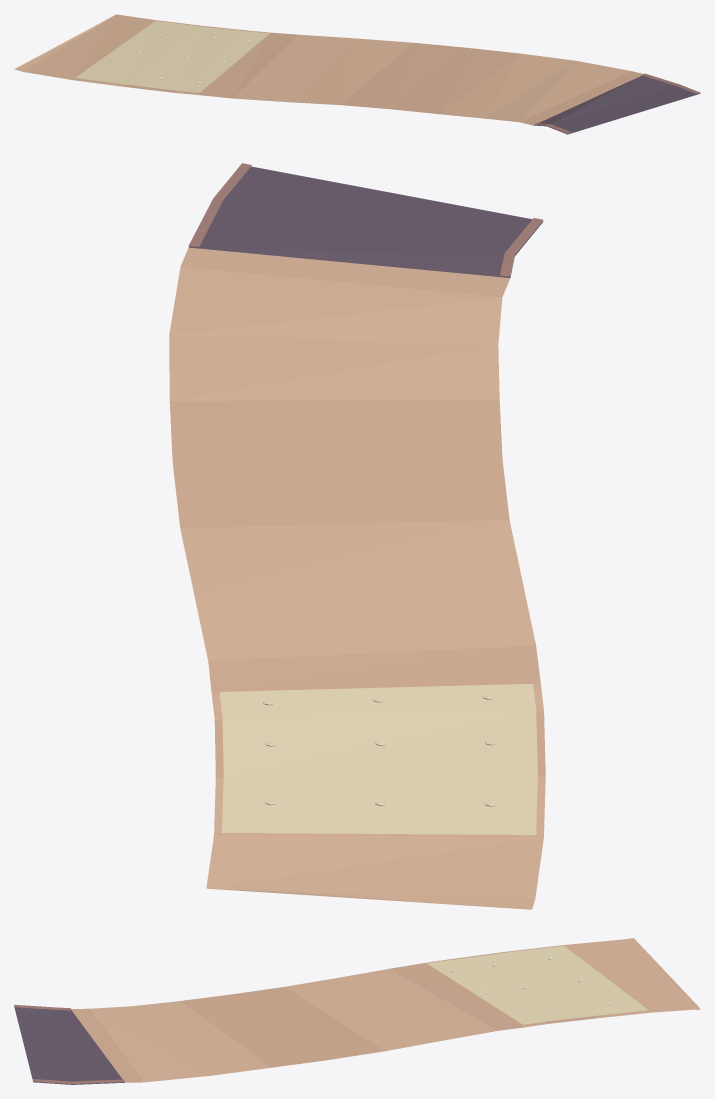
Rendered from tramo_pista_2.glb.
3 renders of one model, top to bottom at view 1: azimuth 30°, elevation 25°; view 2: azimuth 150°, elevation 25°; view 3: azimuth 270°, elevation 25°, orthographic. The views are drawn at different scales.
Visible parts, largest first — view 1: tramo_pista_2; view 2: tramo_pista_2; view 3: tramo_pista_2.
Part boxes in pixels (x1,y1,x2,y2): tramo_pista_2: (14,14,700,134); tramo_pista_2: (169,163,545,909); tramo_pista_2: (14,938,700,1084).
Size of the model in its own units: 24.46 by 4.12 by 31.57.
